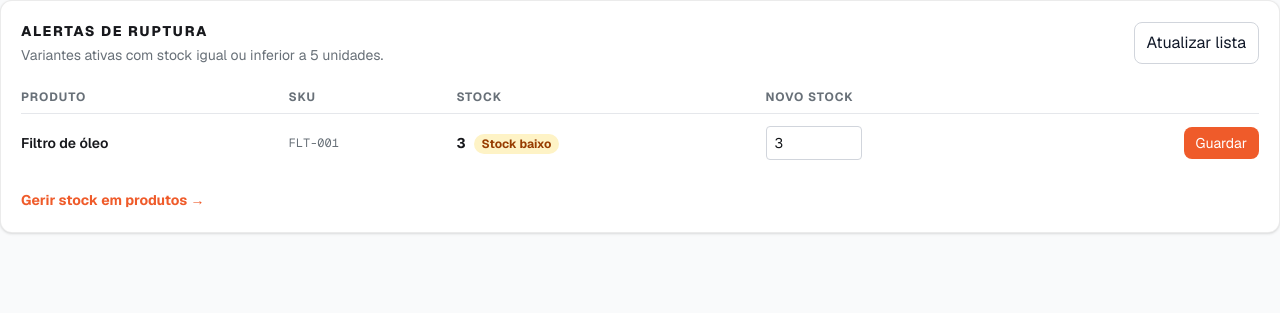
Test: InventoryAlerts › guarda o novo stock e mantém a linha quando continua com stock baixo
The width and height of the screenshot is (1280, 313).
Replace the text in the number field named "Novo stock de FLT-001" with "4" at (814, 143), box [766,126,862,160]
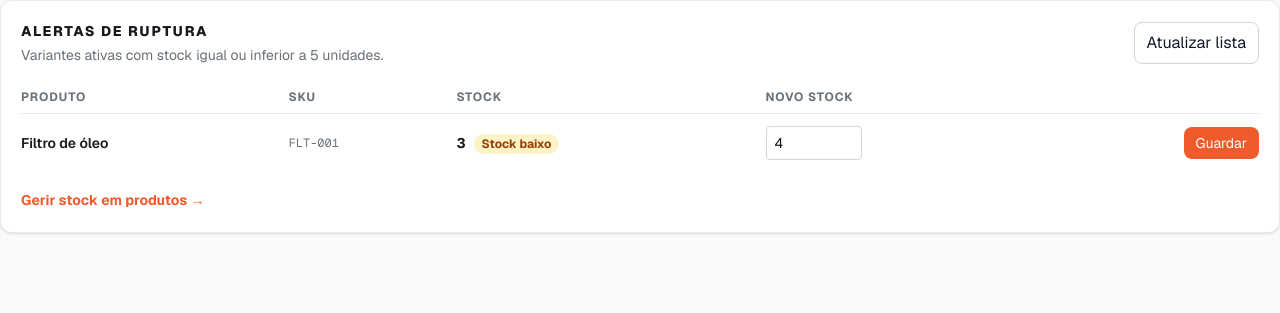
Click the button named "Guardar stock de FLT-001" at (1221, 143), box [1184,127,1259,159]
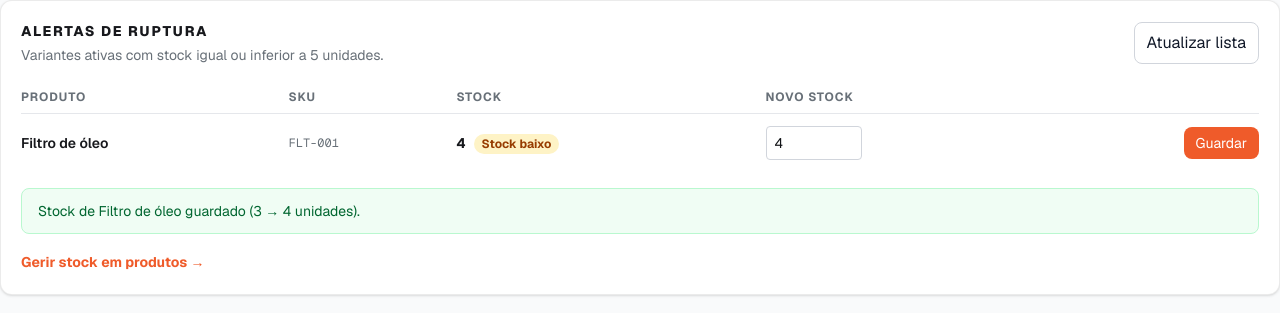
Result: the message reads "Stock de Filtro de óleo guardado (3 → 4 unidades)." at [38,202,360,220]
